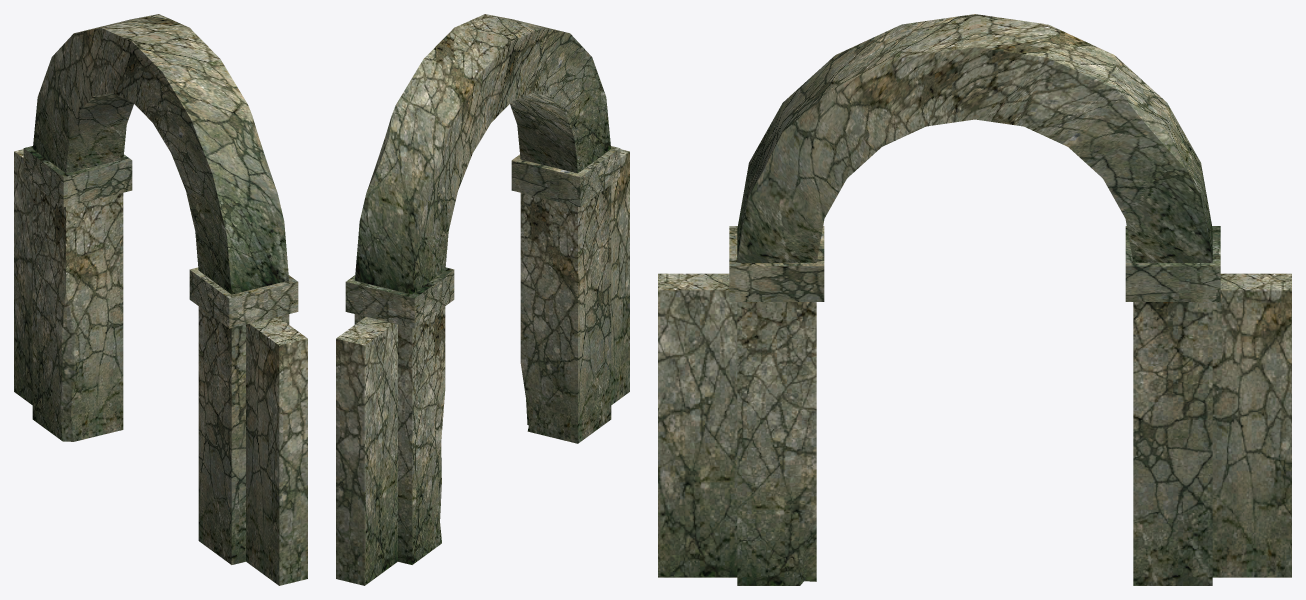
The model's file is thm_nboo_gungan_damaged_narrow_arch_s01_l0.fbx.
3 views of the same model, side by side, from view 1: azimuth 30°, elevation 25°; view 2: azimuth 150°, elevation 25°; view 3: azimuth 270°, elevation 25° (orthographic). The views are drawn at different scales.
Visible parts, largest first — view 1: mesh_node; view 2: mesh_node; view 3: mesh_node.
Boxes of the visible parts, <box> form: mesh_node: <box>14,14,307,585</box>; mesh_node: <box>336,14,629,585</box>; mesh_node: <box>658,14,1291,585</box>.
Size of the model in its own units: 1.2 by 7.5 by 8.
